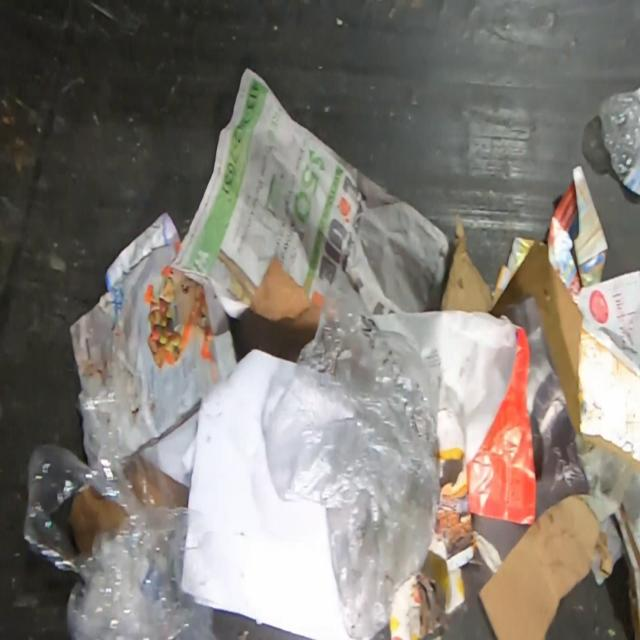cardboard: (495, 241, 640, 474), (478, 495, 613, 639), (230, 253, 323, 366), (440, 211, 495, 313)
rigid_plastic: (603, 89, 640, 199)
soft_plastic: (264, 271, 440, 640), (23, 373, 214, 638)
